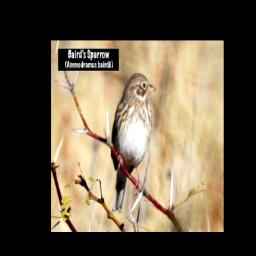Sparrow: (108, 70, 157, 215)
